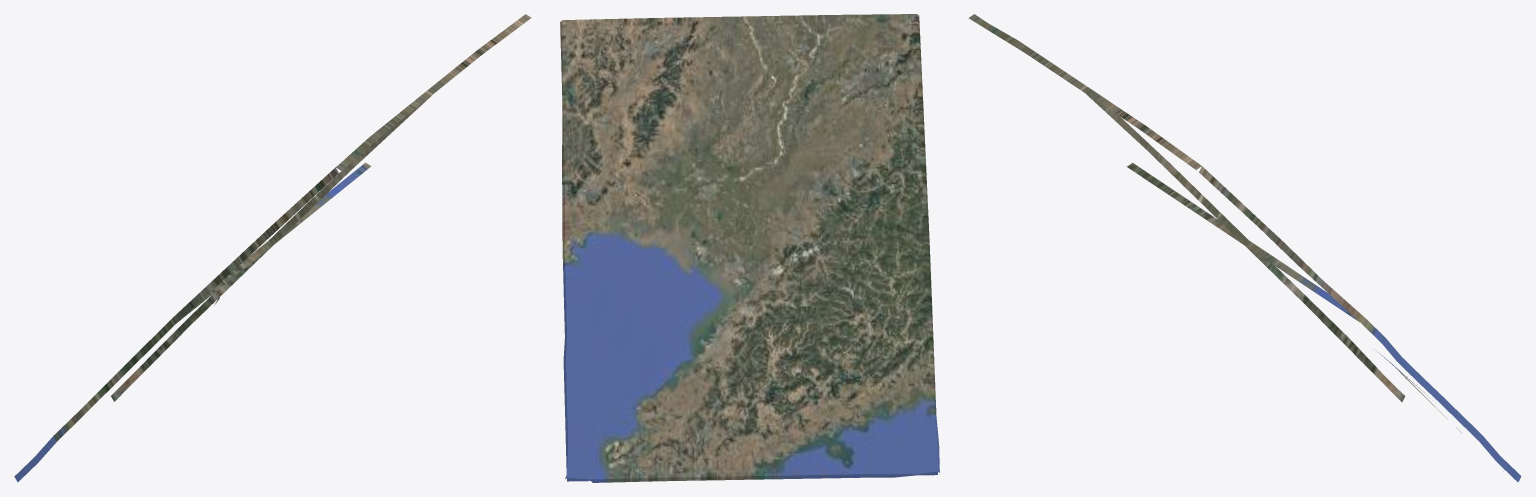
3 renders of one model, left to right at view 1: azimuth 30°, elevation 25°; view 2: azimuth 150°, elevation 25°; view 3: azimuth 270°, elevation 25°, orthographic. The views are drawn at different scales.
Size of the model in its own units: 313779 by 242064 by 303529.
Materials: 1 (1 with a texture image).
